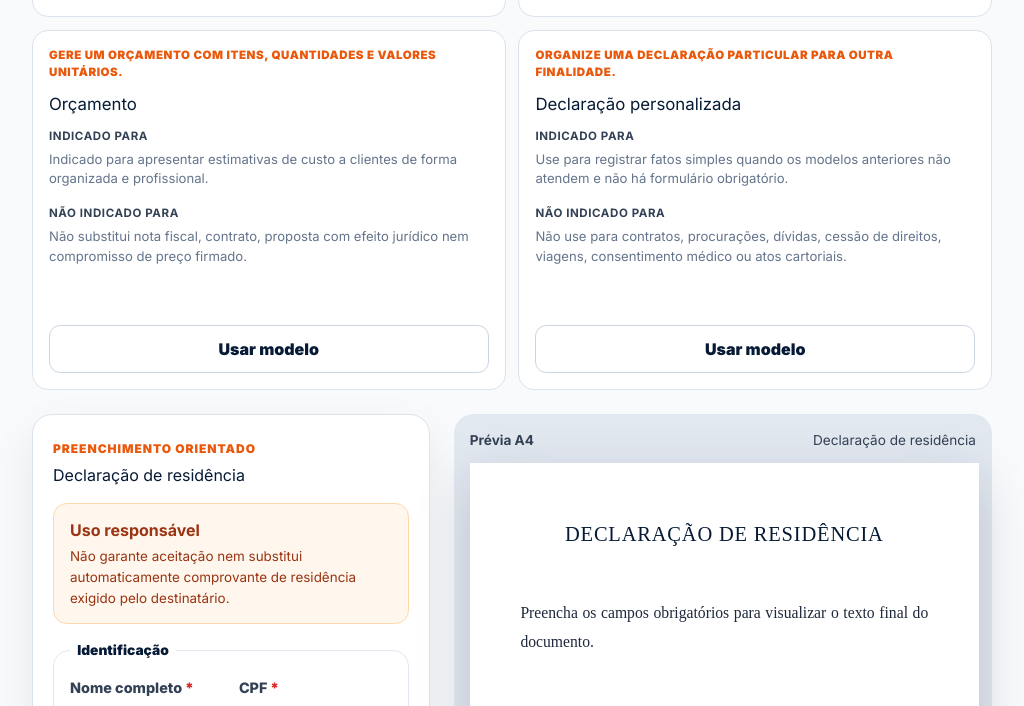
Test: DeclarationBuilderTool › shows live quoteTotal as items are filled
(page scrolled)
Click the 3rd button "Usar modelo". click: click(269, 349)
box: 49,325 -> 489,373
(page scrolled)
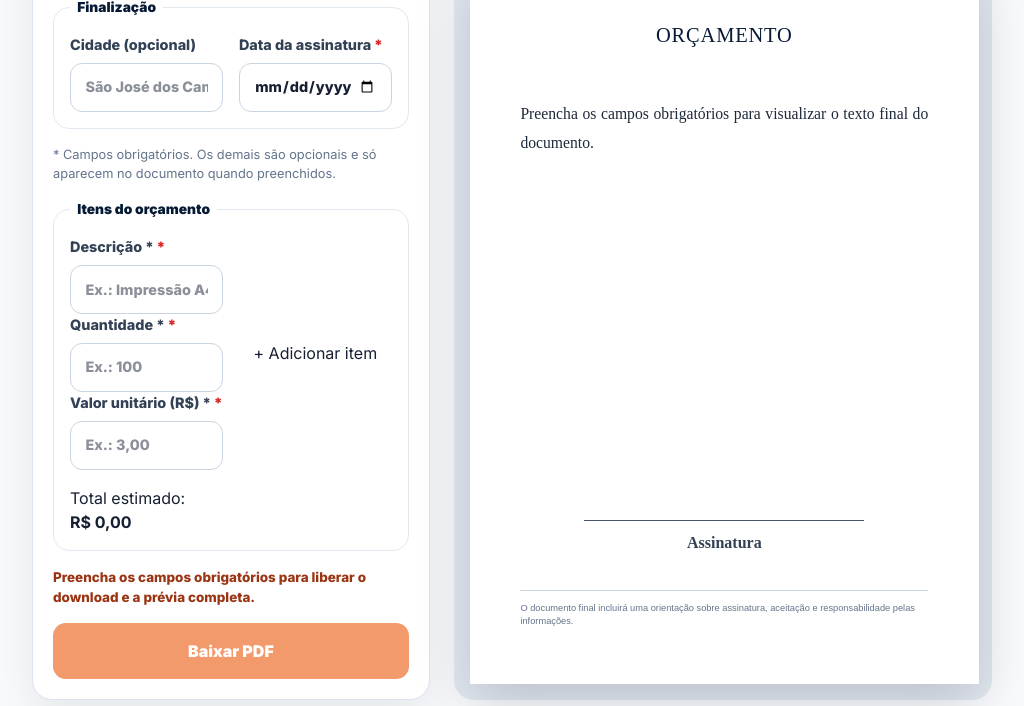
Type "10" into the field named "Quantidade do item 1". click: (146, 367)
box: 70,343 -> 223,392
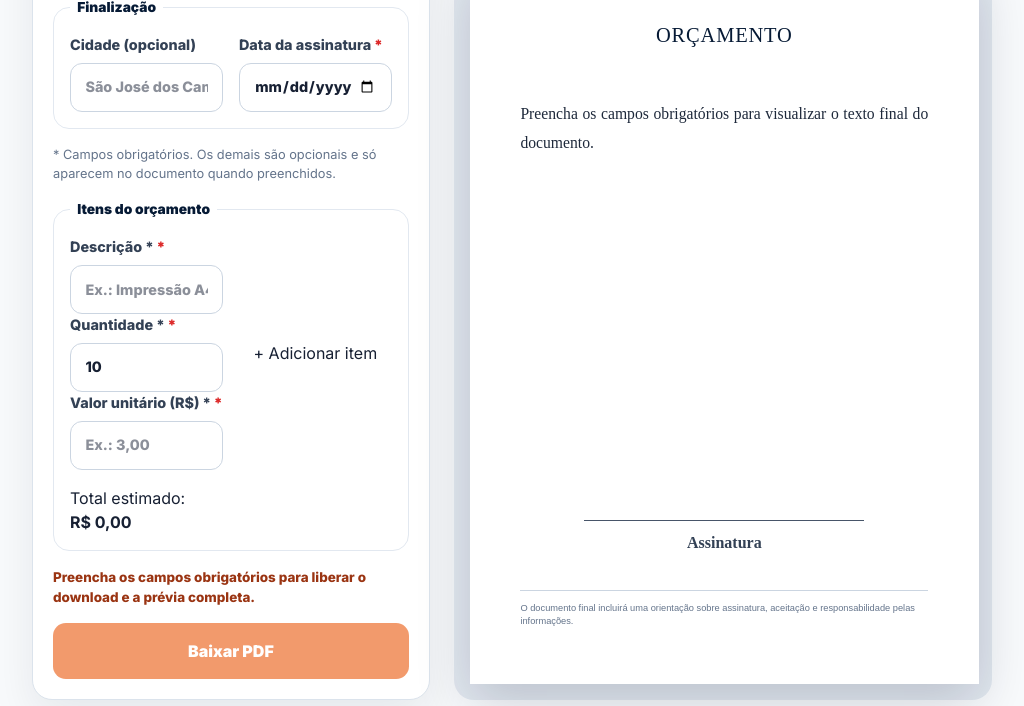
Type "5" into the field named "Valor unitário do item 1". click: (146, 445)
box: 70,421 -> 223,470
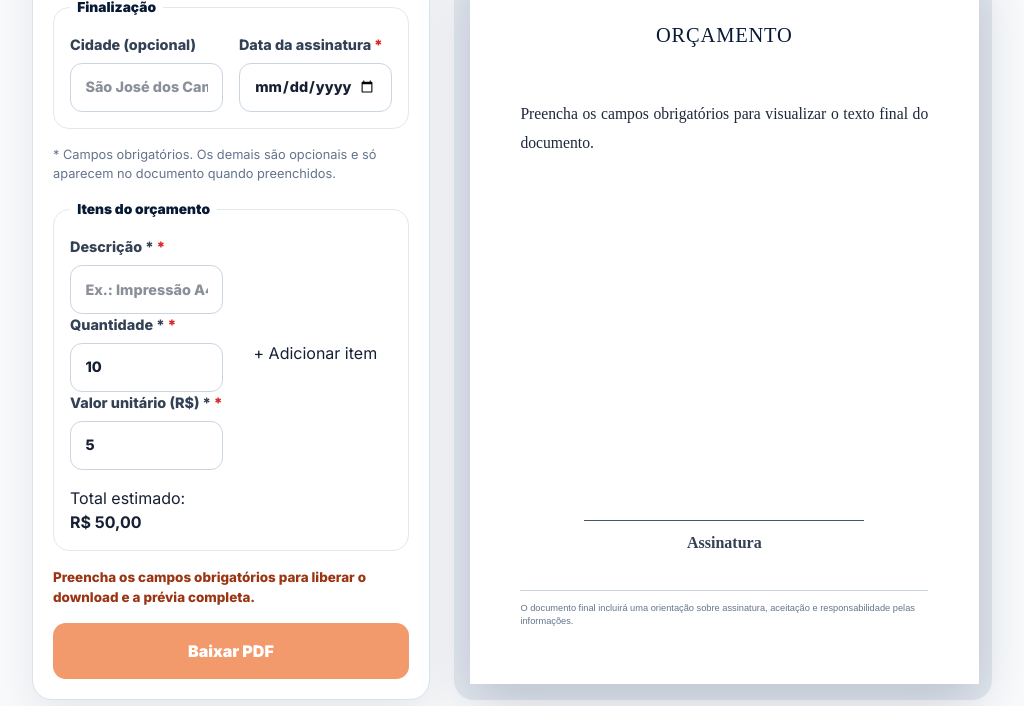
Expected: the text "R$ 50,00" is shown, 70,512 -> 142,532
